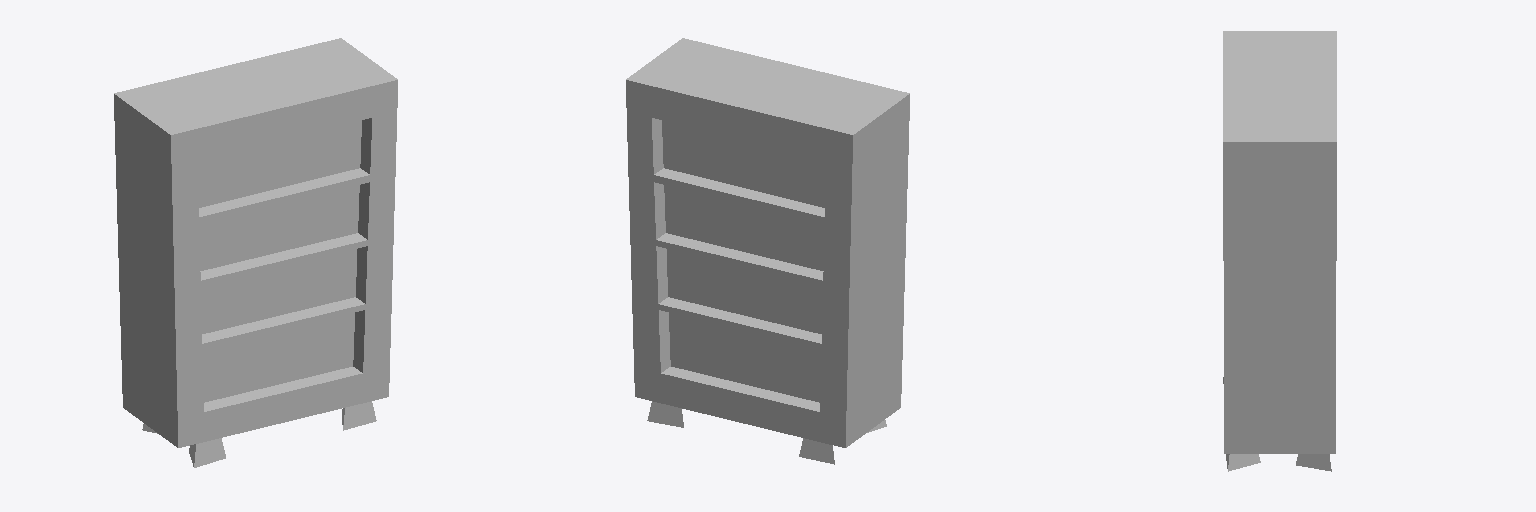
File: abbeyshelf01.obj
3 views of the same model, side by side, from view 1: azimuth 30°, elevation 25°; view 2: azimuth 150°, elevation 25°; view 3: azimuth 270°, elevation 25° (orthographic).
Parts seen in each view (by area): view 1: abbeyshelf010; view 2: abbeyshelf010; view 3: abbeyshelf010.
Boxes of the visible parts, x1,y1,x2,y2 form: abbeyshelf010: [114, 38, 397, 467]; abbeyshelf010: [626, 38, 909, 464]; abbeyshelf010: [1223, 31, 1336, 471].
Size of the model in its own units: 3.56 by 5.06 by 1.55.